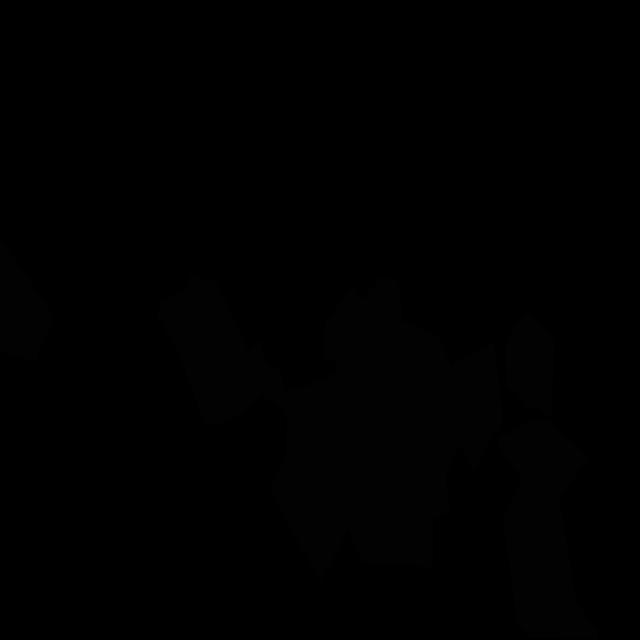cardboard: (270, 276, 504, 583), (497, 419, 598, 639), (156, 275, 286, 424), (0, 237, 54, 363), (505, 311, 556, 420)
